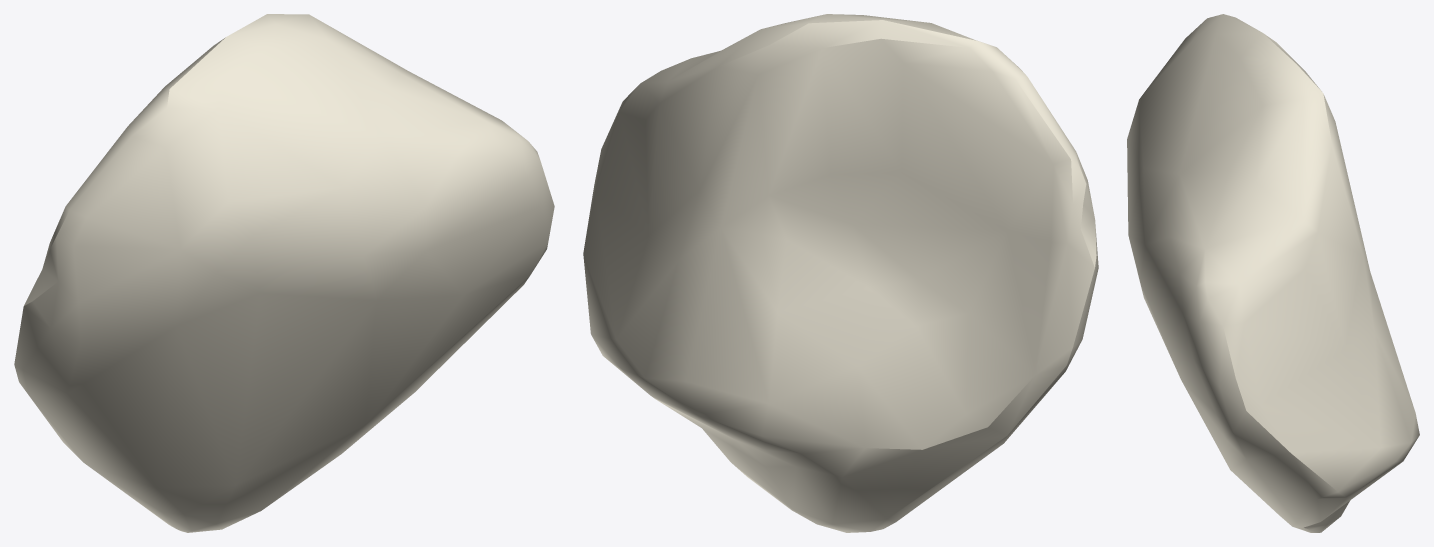
Rendered from fma24486_fj6473.glb.
3 renders of one model, left to right at view 1: azimuth 30°, elevation 25°; view 2: azimuth 150°, elevation 25°; view 3: azimuth 270°, elevation 25°, orthographic. The views are drawn at different scales.
Parts seen in each view (by area): view 1: FMA24486_FJ6473; view 2: FMA24486_FJ6473; view 3: FMA24486_FJ6473.
Boxes of the visible parts, x1,y1,x2,y2 form: FMA24486_FJ6473: (14,14,554,532); FMA24486_FJ6473: (583,14,1098,532); FMA24486_FJ6473: (1127,14,1419,532).
Size of the model in its own units: 0.0418 by 0.0393 by 0.0217.
